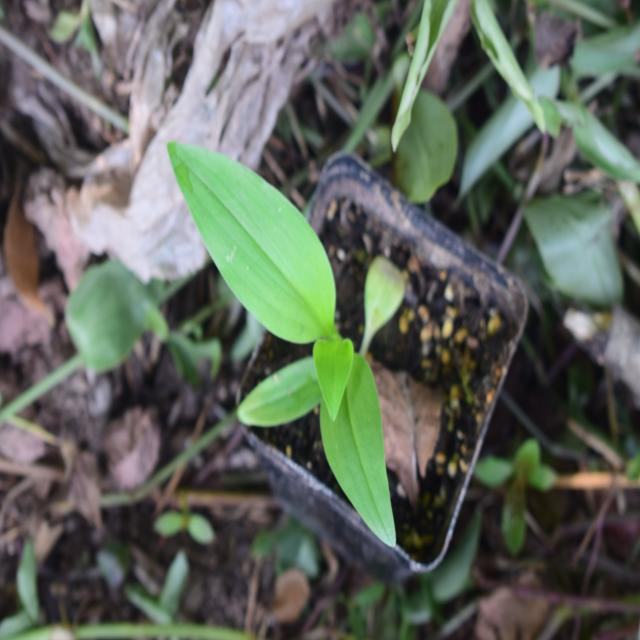Common Dayflower: (174, 144, 427, 566)
